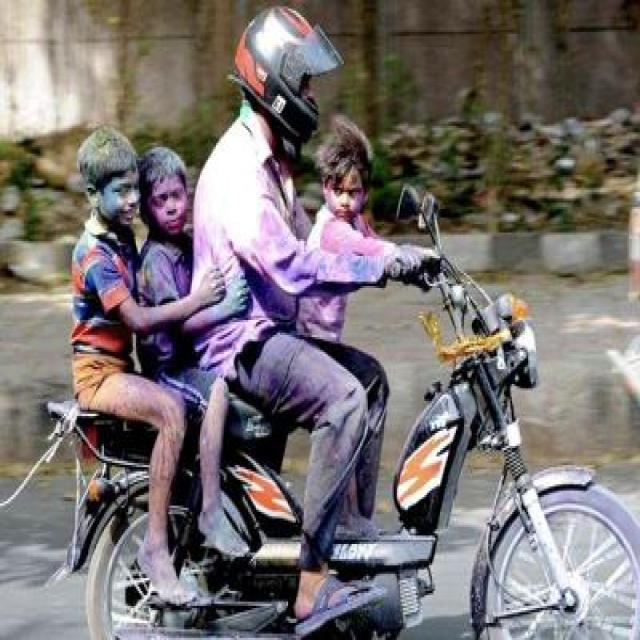Helmet: (230, 2, 342, 156)
